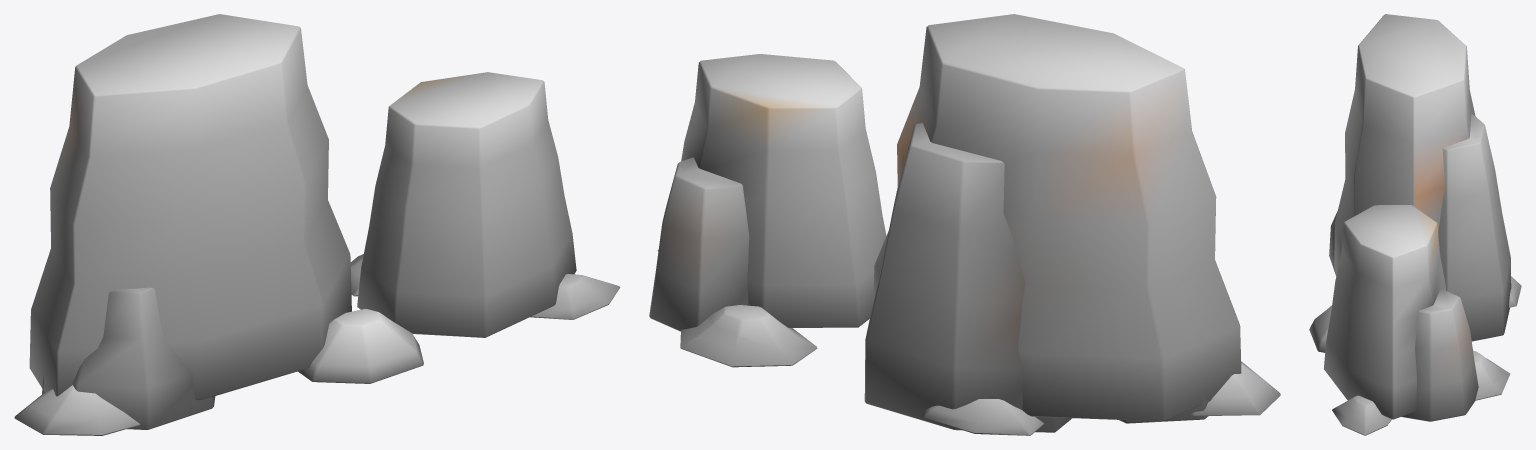
File: shaman_rock.glb
The picture shows the model from 3 angles, left to right: view 1: azimuth 30°, elevation 25°; view 2: azimuth 150°, elevation 25°; view 3: azimuth 270°, elevation 25°; orthographic projection. The views are drawn at different scales.
Parts seen in each view (by area): view 1: Shaman_Crag_Big, Shaman_Crag_Small, Shaman_Ice; view 2: Shaman_Crag_Big, Shaman_Crag_Small, Shaman_Ice; view 3: Shaman_Crag_Big, Shaman_Crag_Small, Shaman_Ice.
Part boxes in pixels (x1,y1,x2,y2): Shaman_Crag_Big: (29,14,351,429); Shaman_Crag_Small: (357,72,576,337); Shaman_Ice: (14,254,620,435); Shaman_Crag_Big: (864,14,1241,432); Shaman_Crag_Small: (649,54,886,331); Shaman_Ice: (657,250,1280,435); Shaman_Crag_Big: (1329,14,1511,341); Shaman_Crag_Small: (1324,205,1478,421); Shaman_Ice: (1309,276,1521,435).
Size of the model in its own units: 37.05 by 19 by 15.3.
